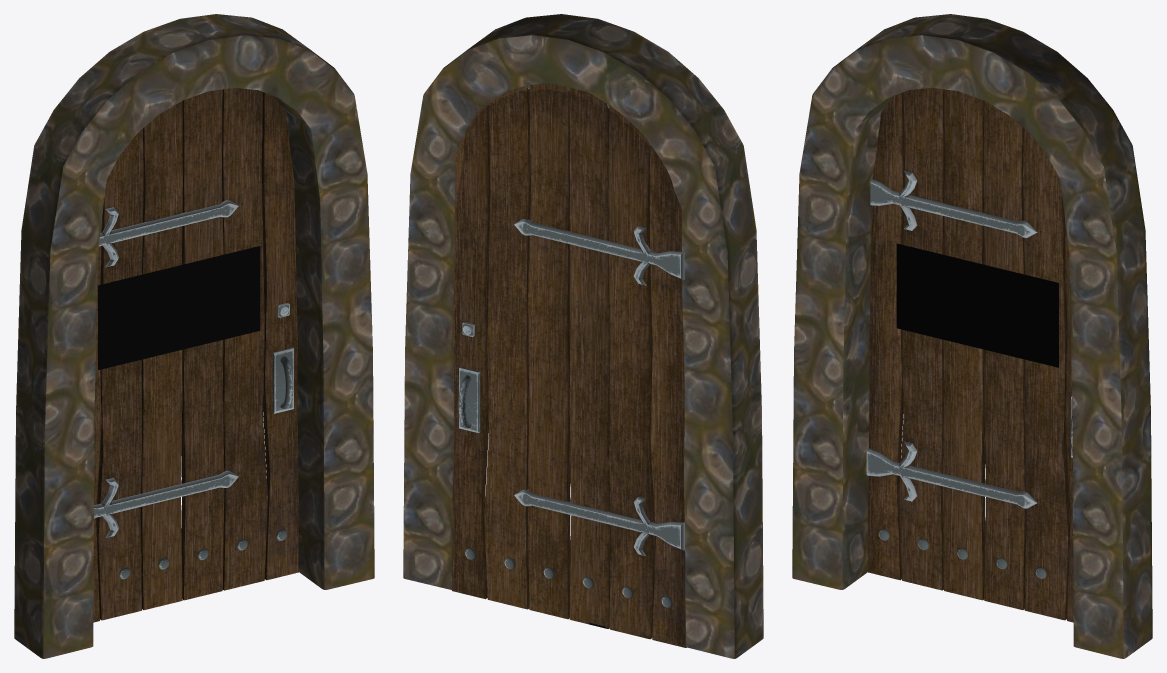
File: puerta_dos.obj
The picture shows the model from 3 angles, left to right: view 1: azimuth 30°, elevation 25°; view 2: azimuth 150°, elevation 25°; view 3: azimuth 330°, elevation 25°; orthographic projection.
Visible parts, largest first — view 1: Cube_000, Cube_004, Plane001; view 2: Cube_004, Cube_000; view 3: Cube_000, Cube_004, Plane001.
Boxes of the visible parts, <box> form: Cube_000: <box>14,14,374,658</box>; Cube_004: <box>93,88,298,622</box>; Plane001: <box>98,246,260,370</box>; Cube_004: <box>452,83,686,647</box>; Cube_000: <box>403,14,763,658</box>; Cube_000: <box>792,14,1152,658</box>; Cube_004: <box>866,88,1073,622</box>; Plane001: <box>896,243,1058,367</box>.
Bounding box in the file's own units: 821 × 1367 × 169.
2 materials, 1 textured.
